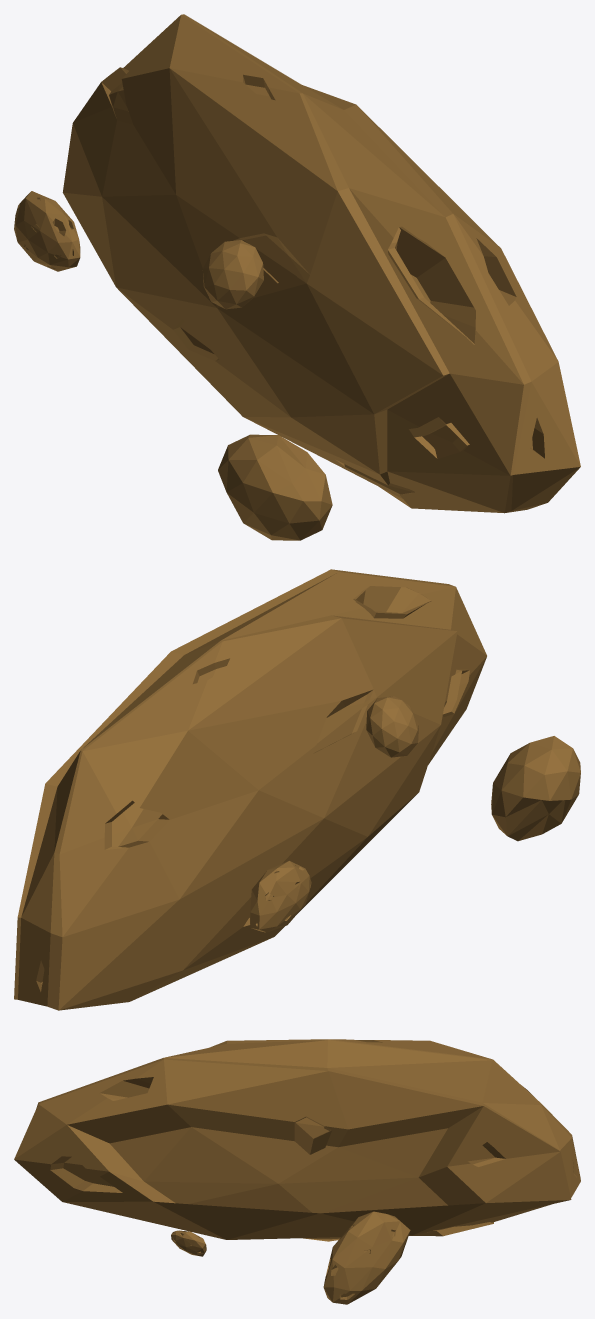
File: asteroid5.fbx
3 views of the same model, one above another, from view 1: azimuth 30°, elevation 25°; view 2: azimuth 150°, elevation 25°; view 3: azimuth 270°, elevation 25° (orthographic). The views are drawn at different scales.
Parts seen in each view (by area): view 1: Icosphere; view 2: Icosphere; view 3: Icosphere.
Boxes of the visible parts, x1,y1,x2,y2 form: Icosphere: [14, 14, 580, 540]; Icosphere: [14, 569, 580, 1010]; Icosphere: [14, 1039, 580, 1304].
Size of the model in its own units: 1356 by 1083 by 2614.
